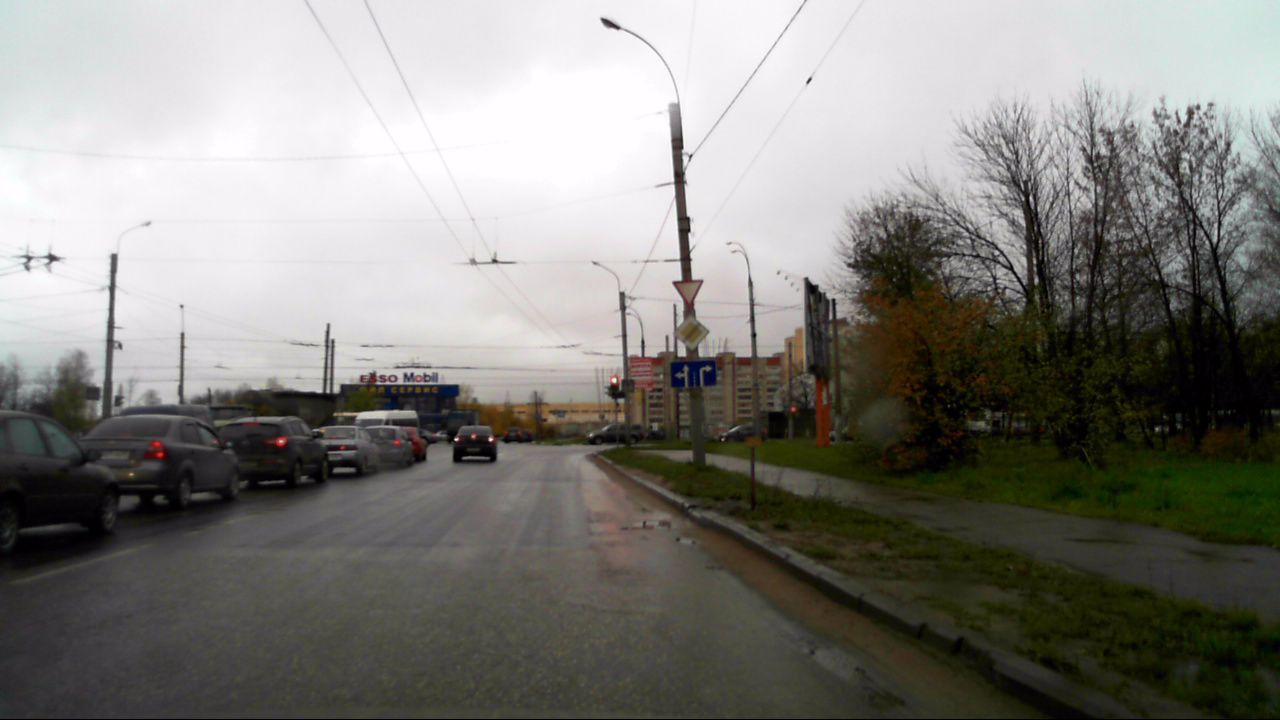main road: (673, 314, 709, 351)
